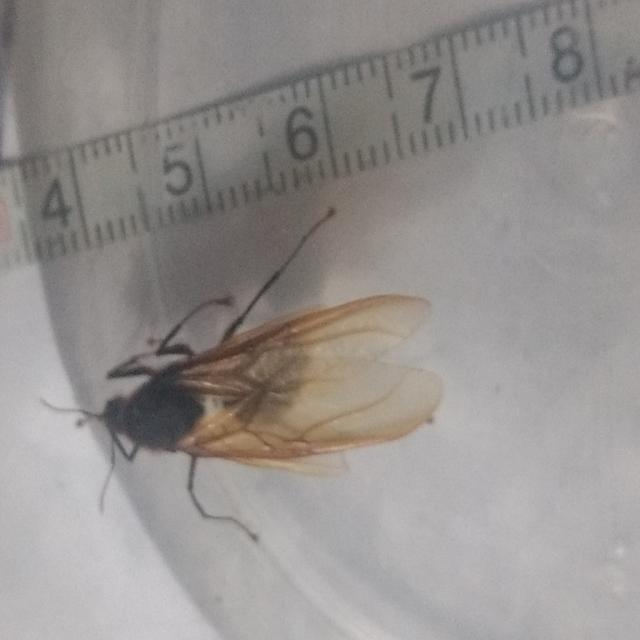Alive-Male-Alate: (39, 206, 442, 544)
